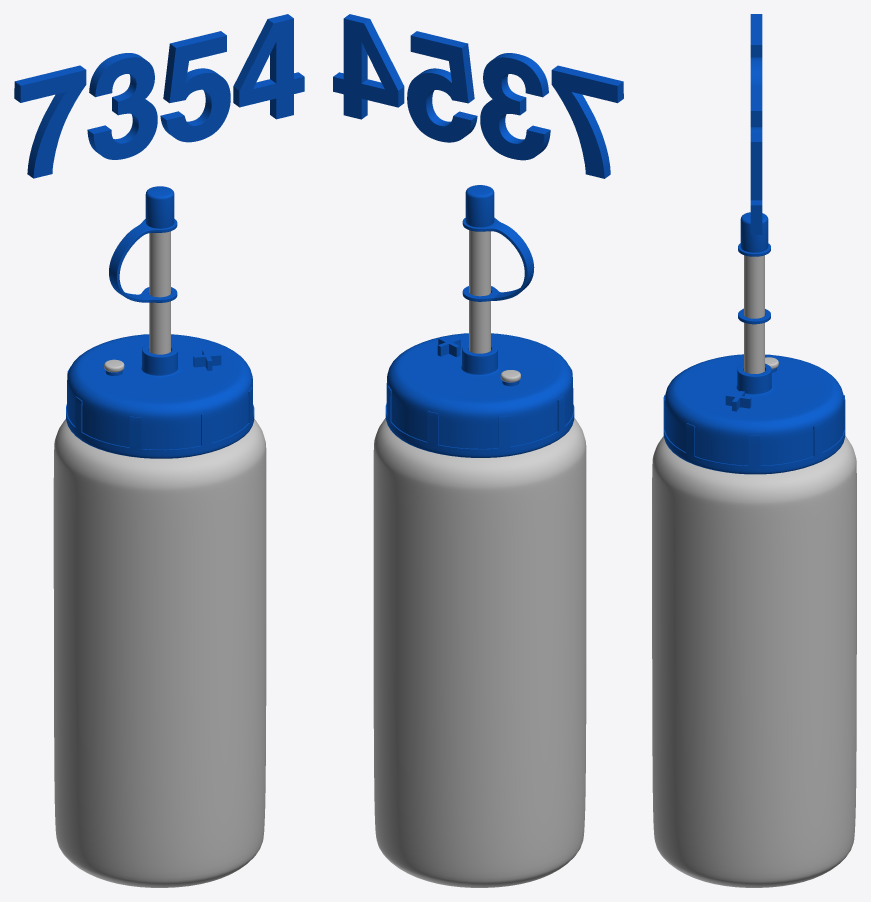
Rendered from PEPSILINDRO_CODIGO_7354.obj.
3 views of the same model, side by side, from view 1: azimuth 30°, elevation 25°; view 2: azimuth 150°, elevation 25°; view 3: azimuth 270°, elevation 25° (orthographic). The views are drawn at different scales.
Parts seen in each view (by area): view 1: CUERPO, TAPA, 7354, TAPA_POPOTE, POPOTE; view 2: CUERPO, TAPA, 7354, TAPA_POPOTE, POPOTE; view 3: CUERPO, TAPA, 7354, POPOTE, TAPA_POPOTE.
Part boxes in pixels (left/top/right/bottom): CUERPO: left=53, top=419, right=266, bottom=887; TAPA: left=66, top=334, right=254, bottom=458; 7354: left=14, top=14, right=304, bottom=178; TAPA_POPOTE: left=109, top=186, right=177, bottom=302; POPOTE: left=149, top=231, right=170, bottom=354; CUERPO: left=373, top=418, right=586, bottom=887; TAPA: left=385, top=333, right=574, bottom=457; 7354: left=333, top=14, right=623, bottom=178; TAPA_POPOTE: left=462, top=185, right=534, bottom=301; POPOTE: left=469, top=230, right=490, bottom=353; CUERPO: left=652, top=436, right=856, bottom=887; TAPA: left=663, top=354, right=845, bottom=474; 7354: left=750, top=14, right=762, bottom=234; POPOTE: left=744, top=255, right=764, bottom=373; TAPA_POPOTE: left=738, top=212, right=770, bottom=324.
Size of the model in its own units: 1341 by 3623 by 869.
